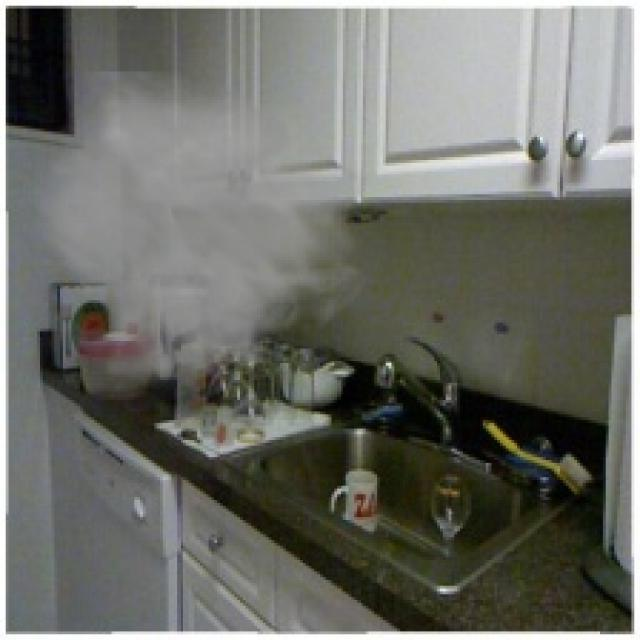Smoke: (22, 72, 372, 414)
